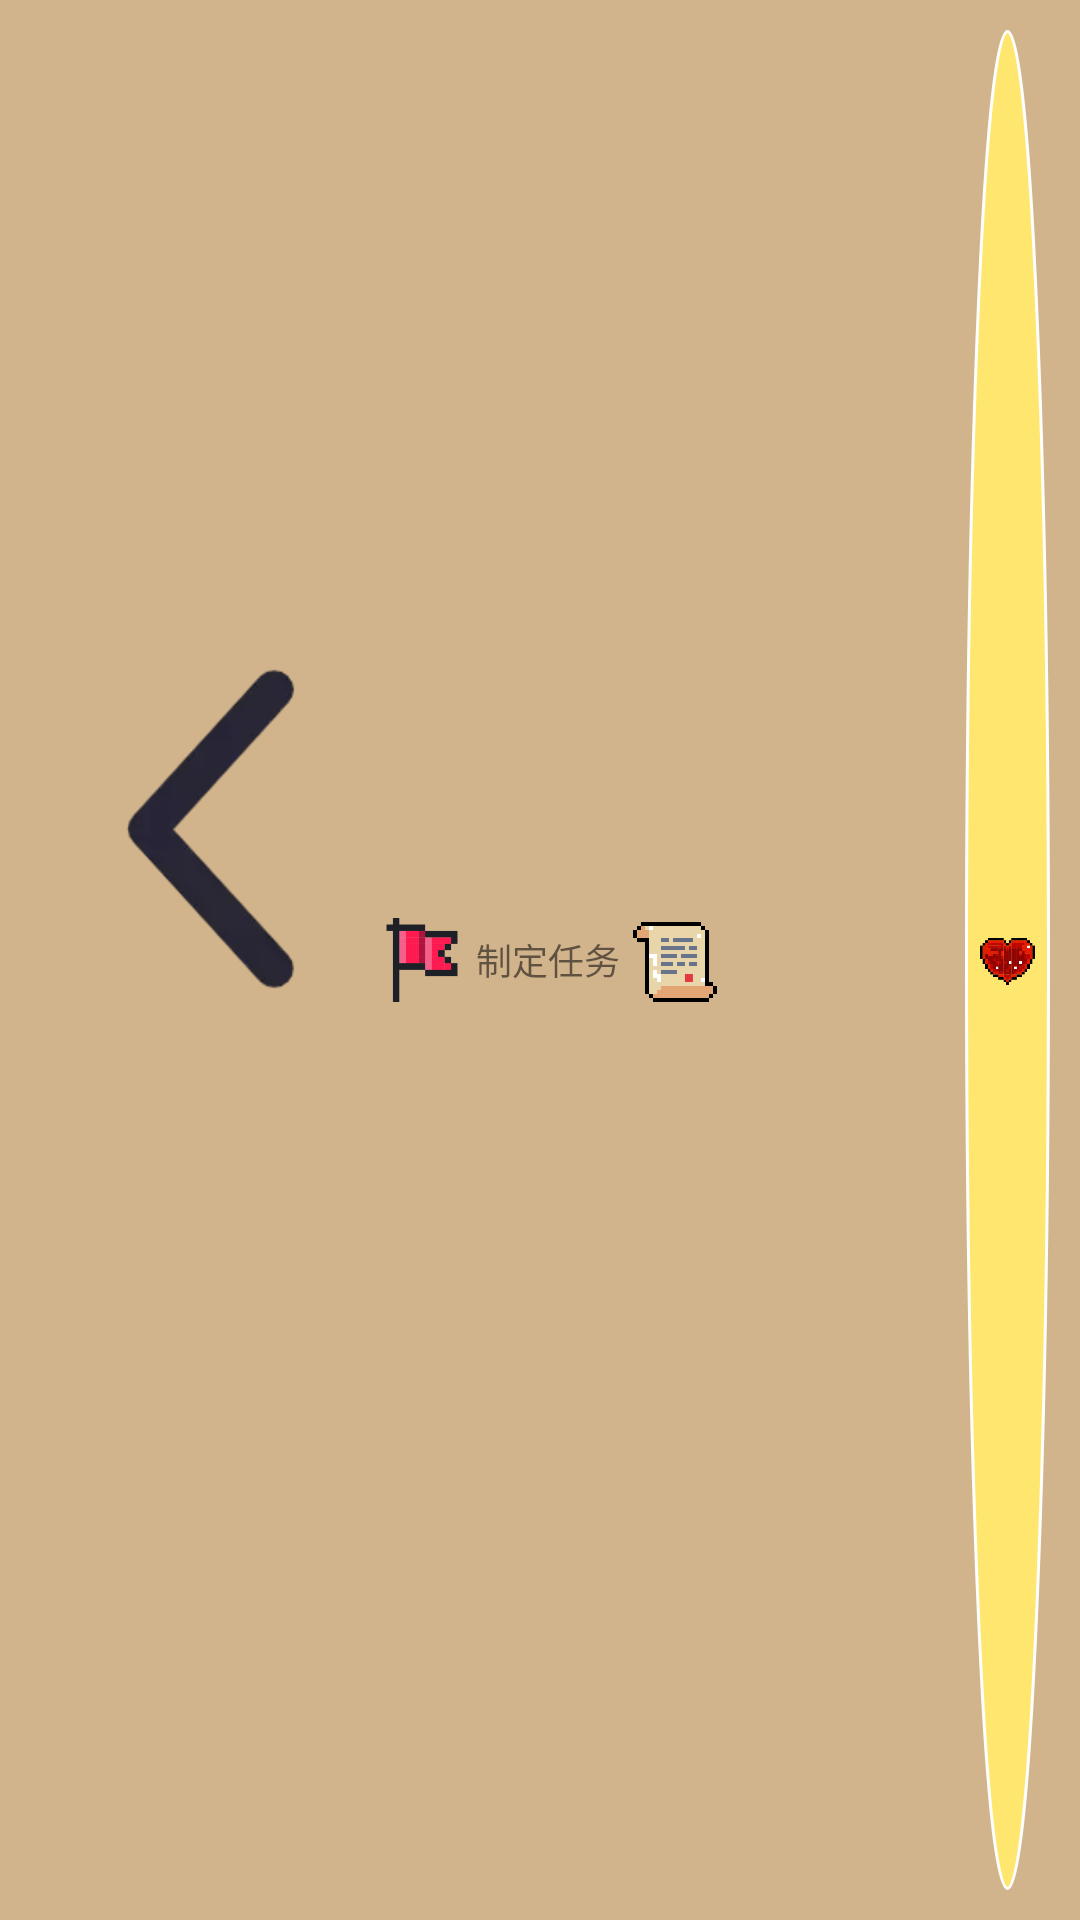

Screen size 1080 × 1920. Icon name, then its box in pixels as (x1, y1, x2, y2):
back: (127, 670, 294, 988)
flag pixel: (386, 918, 458, 1002)
